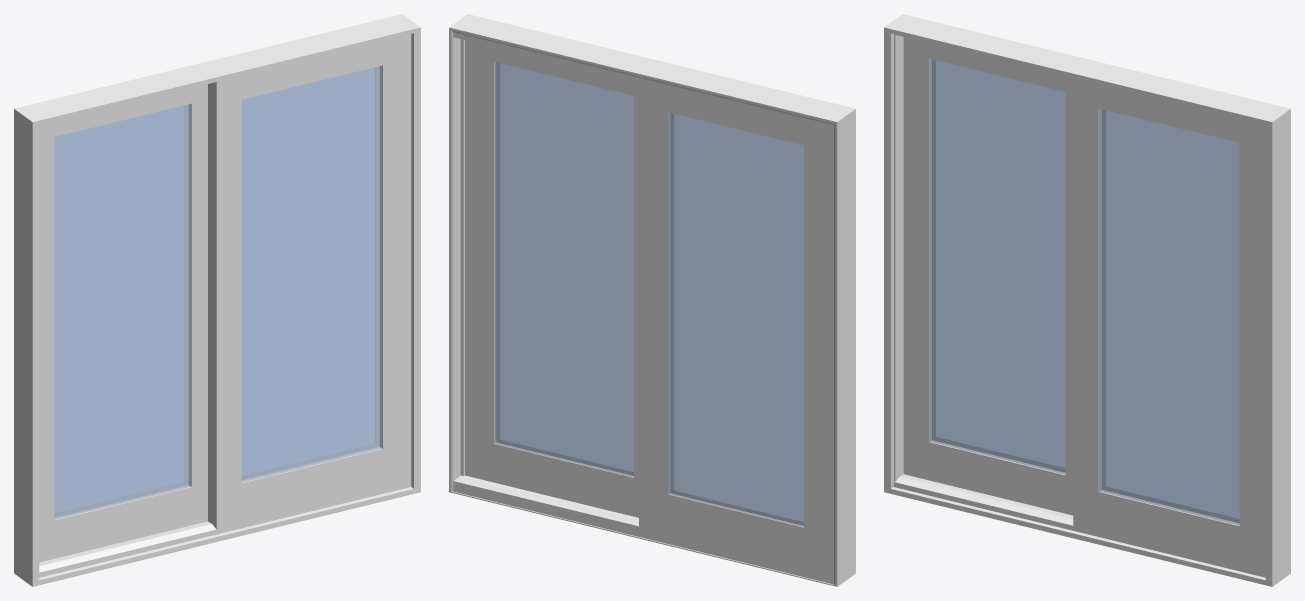
File: window.fbx
The picture shows the model from 3 angles, left to right: view 1: azimuth 30°, elevation 25°; view 2: azimuth 150°, elevation 25°; view 3: azimuth 330°, elevation 25°; orthographic projection.
Parts seen in each view (by area): view 1: Designer Series French Sliding Door_001; view 2: Designer Series French Sliding Door_001; view 3: Designer Series French Sliding Door_001.
Boxes of the visible parts, box(x1,y1,x2,y2) form: Designer Series French Sliding Door_001: box(14, 14, 420, 586); Designer Series French Sliding Door_001: box(449, 14, 855, 586); Designer Series French Sliding Door_001: box(884, 14, 1290, 586).
Size of the model in its own units: 193 by 221 by 15.9.
